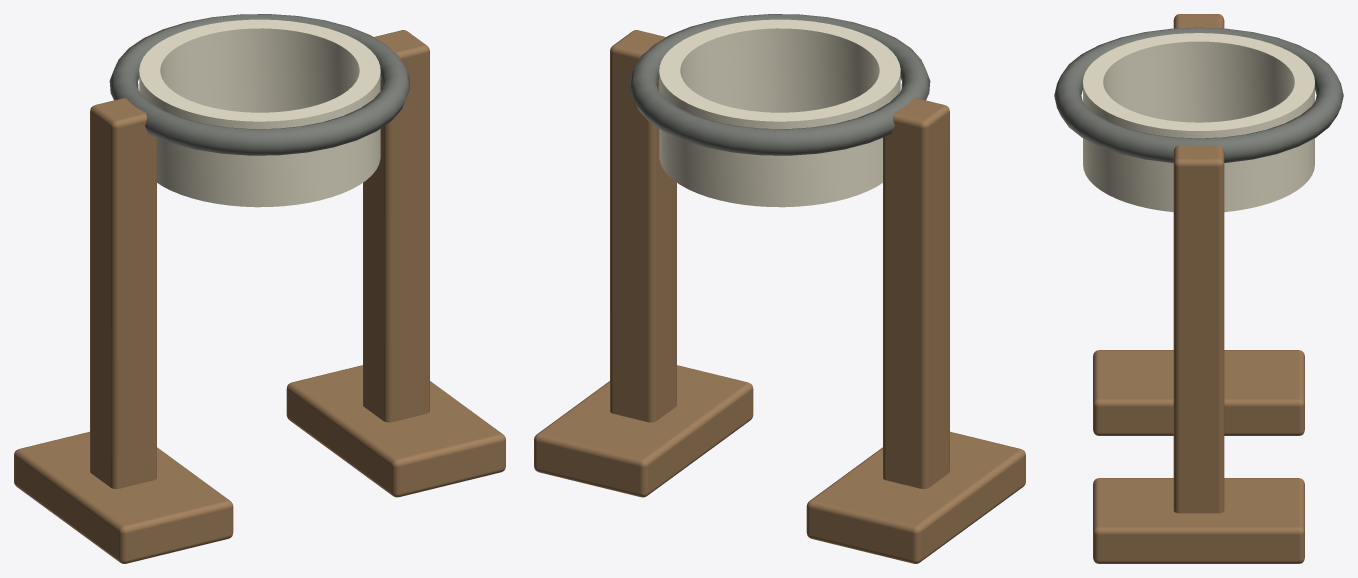
The model's file is flour-sack-filling-stand.glb.
3 views of the same model, side by side, from view 1: azimuth 30°, elevation 25°; view 2: azimuth 150°, elevation 25°; view 3: azimuth 270°, elevation 25° (orthographic). The views are drawn at different scales.
Visible parts, largest first — view 1: flour-sack-filling-stand; view 2: flour-sack-filling-stand; view 3: flour-sack-filling-stand.
Part boxes in pixels (x1,y1,x2,y2): flour-sack-filling-stand: (14,14,505,563); flour-sack-filling-stand: (534,14,1025,563); flour-sack-filling-stand: (1054,14,1343,563).
Size of the model in its own units: 0.85 by 0.86 by 0.574.
